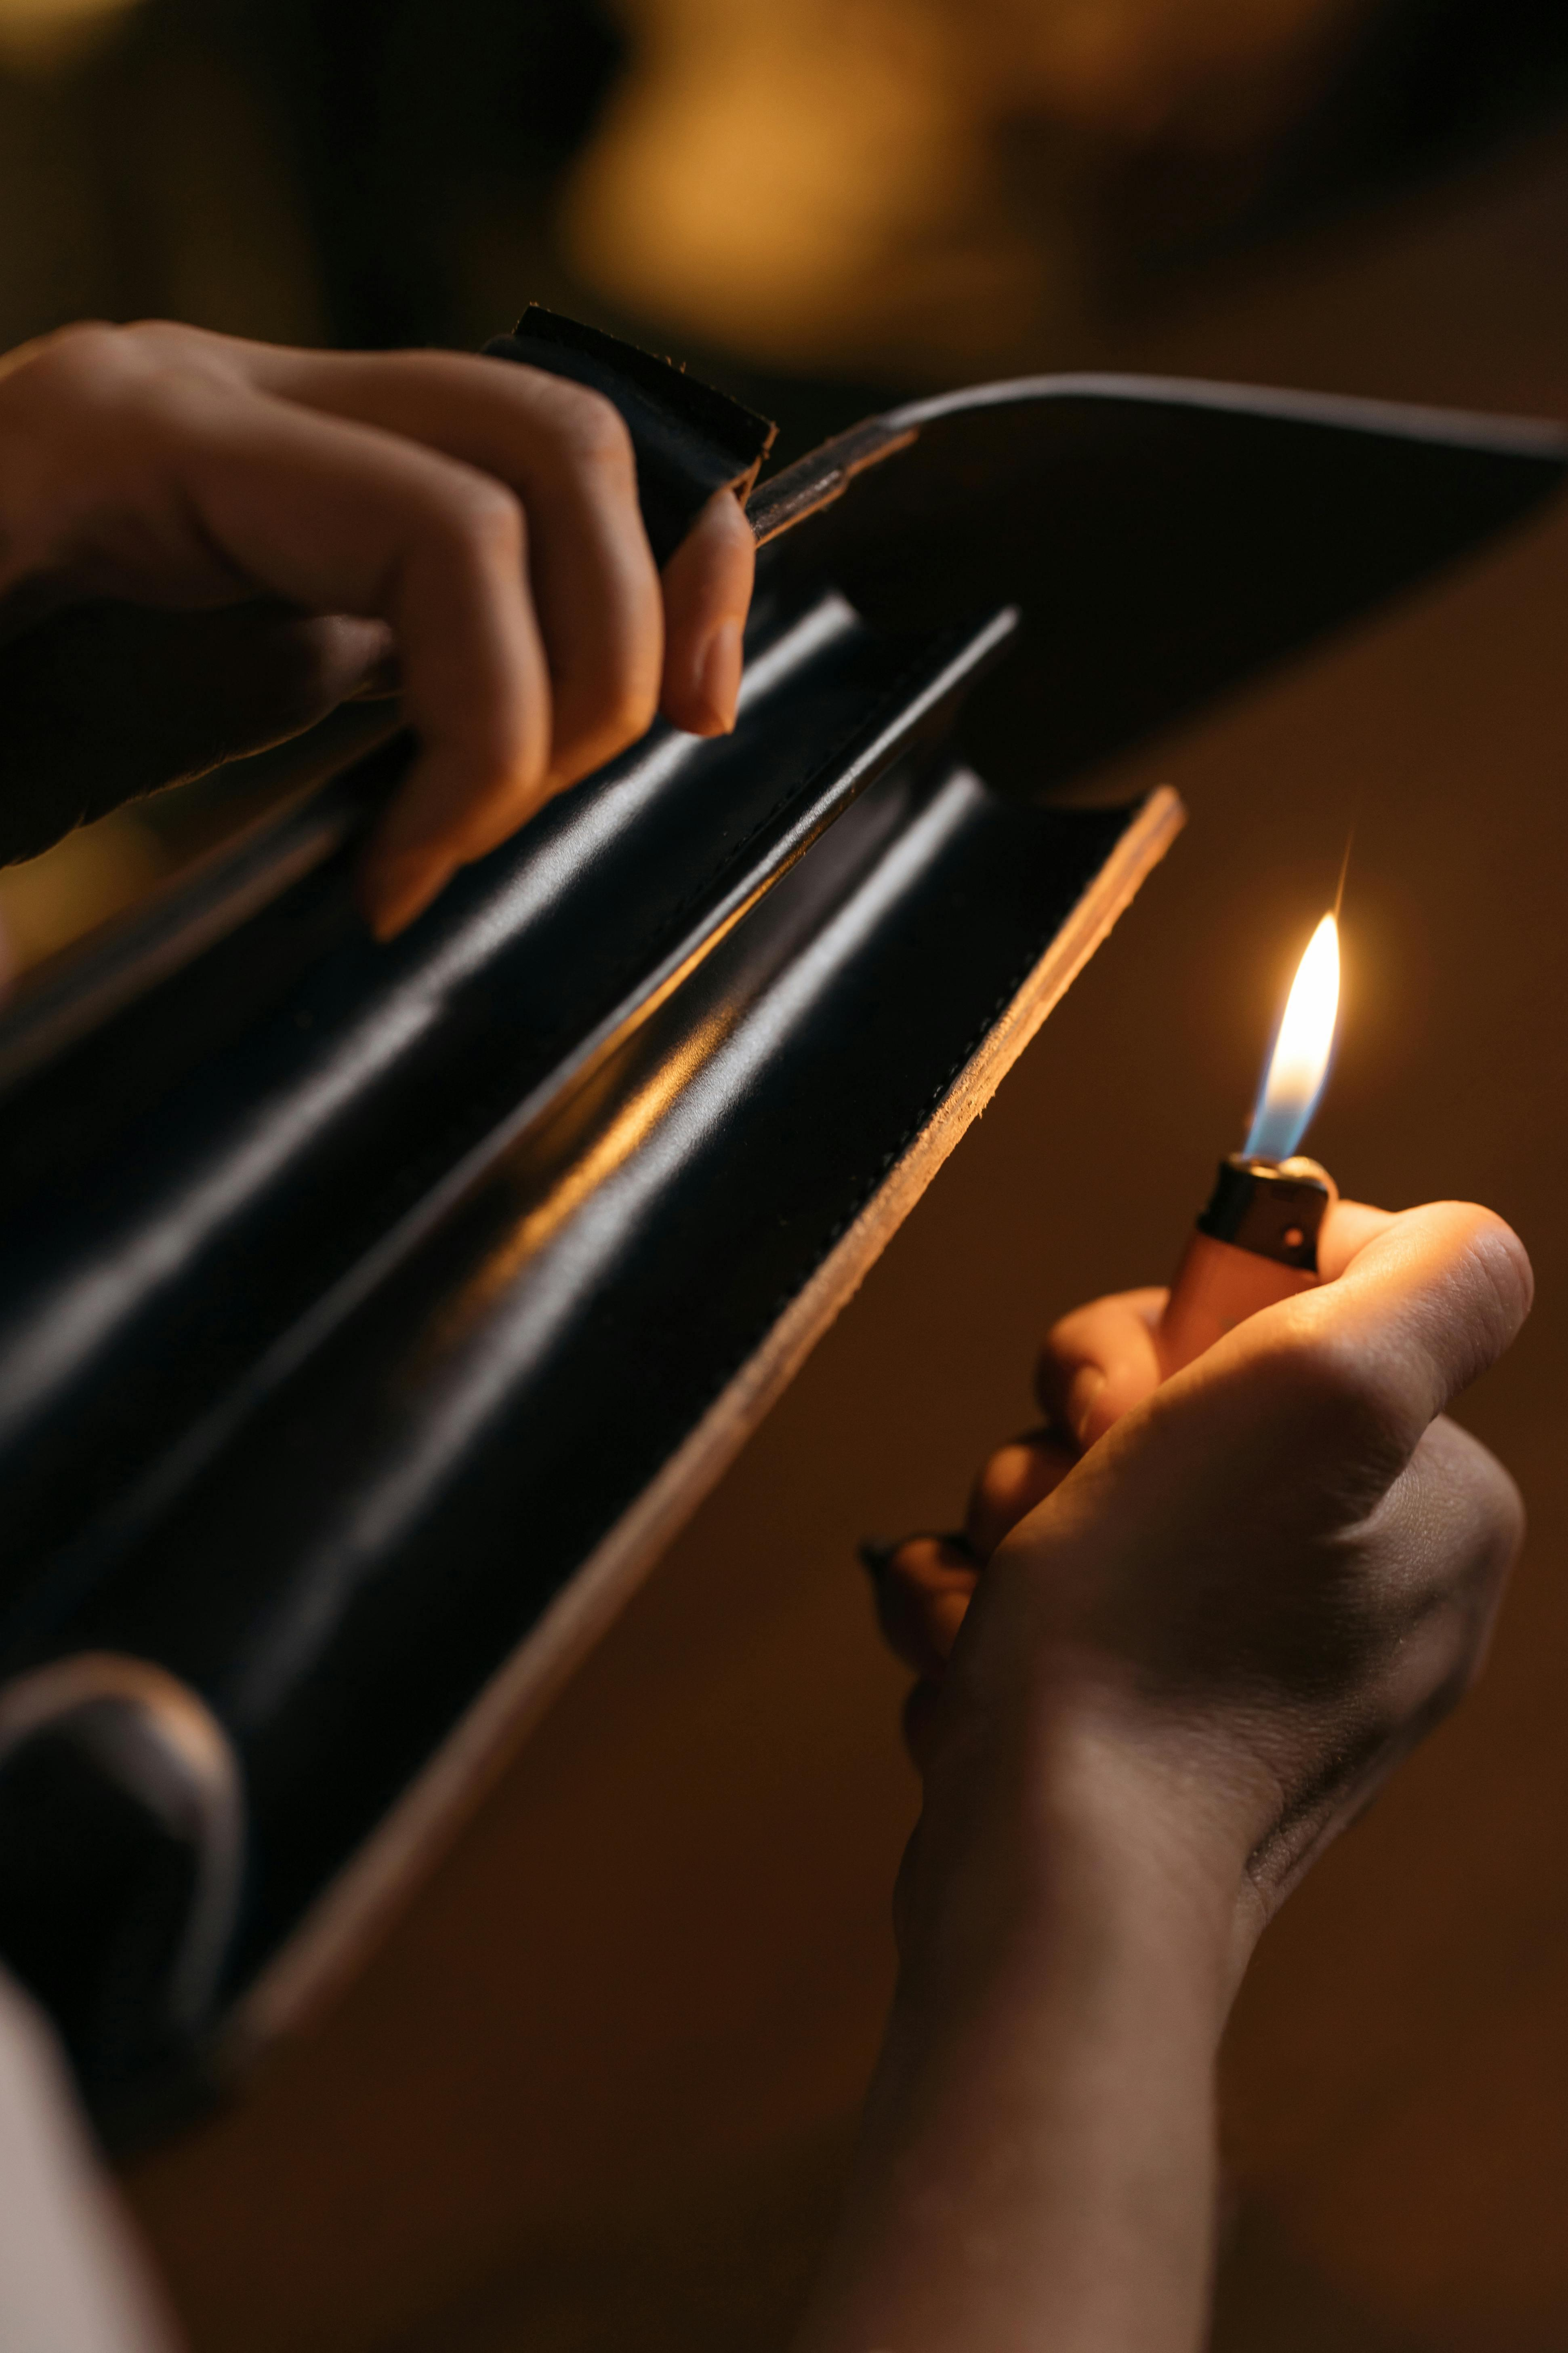Fire: (1216, 853, 1377, 1187)
